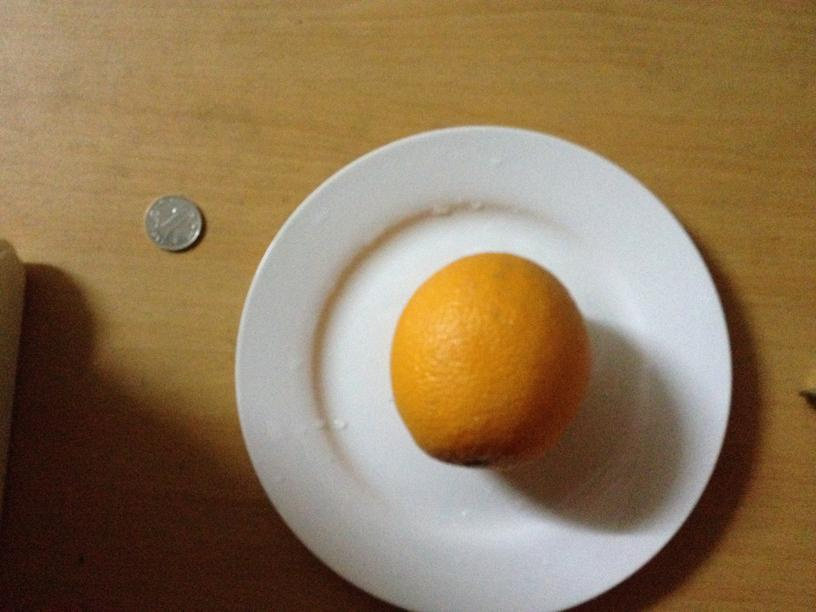coin: (144, 195, 203, 251)
orange: (395, 246, 591, 465)
